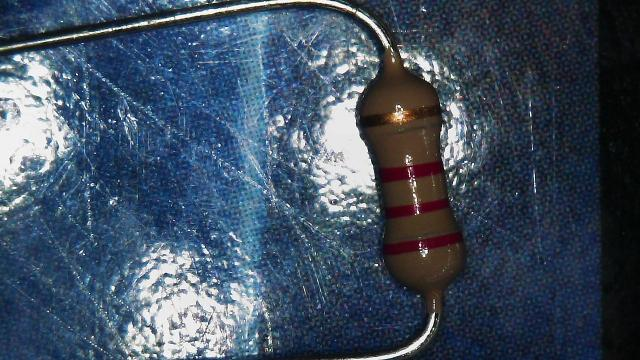gold: (358, 105, 442, 128)
red: (384, 232, 462, 255), (379, 161, 443, 182), (386, 198, 448, 218)
resistor: (337, 40, 492, 313)
